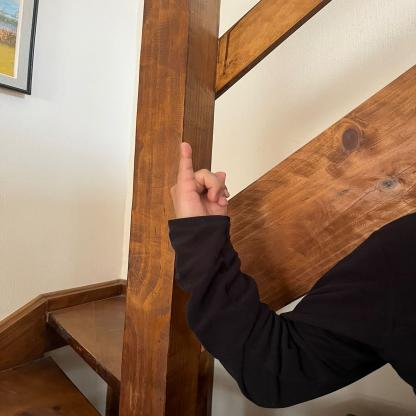I: (163, 136, 239, 235)
